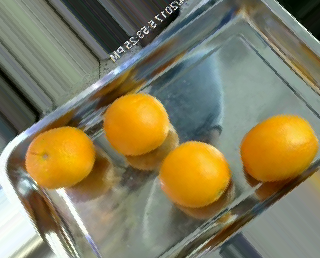Orange: (240, 113, 320, 182), (158, 140, 229, 208), (24, 125, 95, 189), (103, 92, 169, 155)
